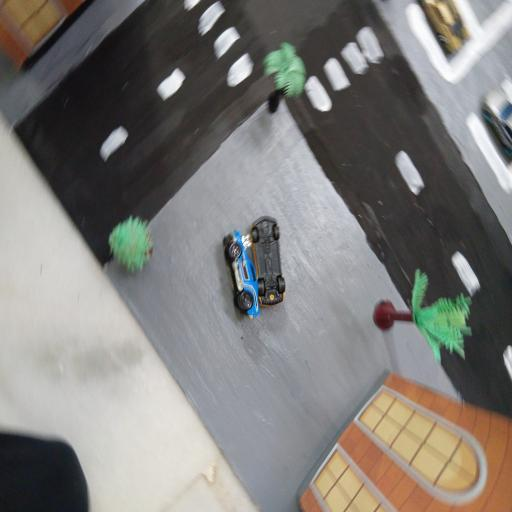car crash: (225, 215, 289, 320)
